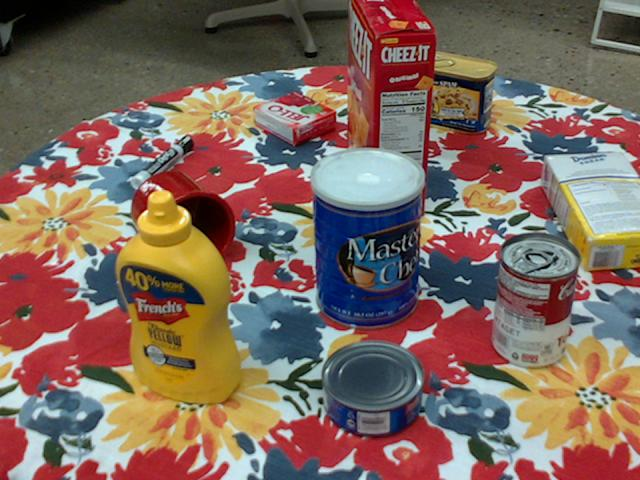cracker_box: (349, 0, 436, 217)
gelatin_box: (252, 91, 336, 146)
large_marker: (129, 135, 192, 189)
master_chef_can: (309, 147, 423, 331)
mug: (124, 171, 236, 277)
mustard_bottle: (114, 190, 242, 402)
potted_meat_can: (417, 50, 498, 132)
sugar_box: (541, 150, 639, 272)
tomato_soup_can: (493, 231, 579, 368)
tuna_fish_can: (318, 341, 421, 437)
